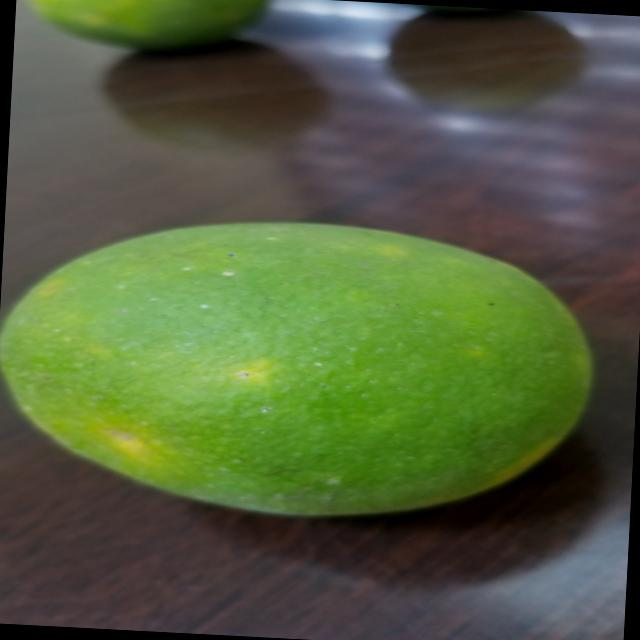Ripe orange: (0, 205, 625, 537)
